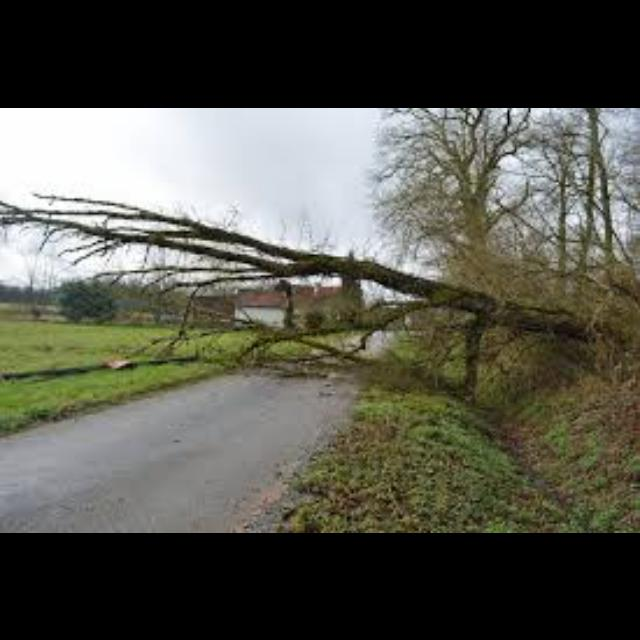Fallen Tree: (266, 235, 628, 358)
